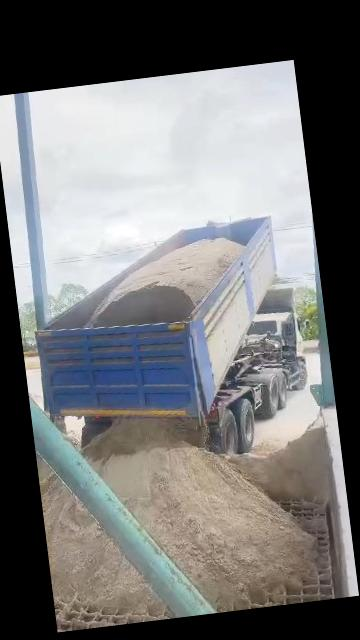sand: (83, 417, 314, 611), (40, 475, 167, 616), (86, 238, 243, 326), (231, 420, 330, 501), (37, 454, 52, 482), (63, 430, 80, 450)
